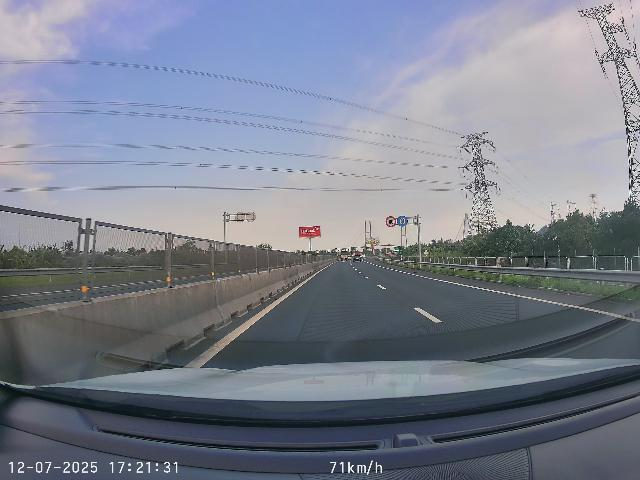127-toc-do-toi-da-80: (385, 216, 396, 228)
306-toc-do-toi-thieu-60: (397, 215, 408, 227)
